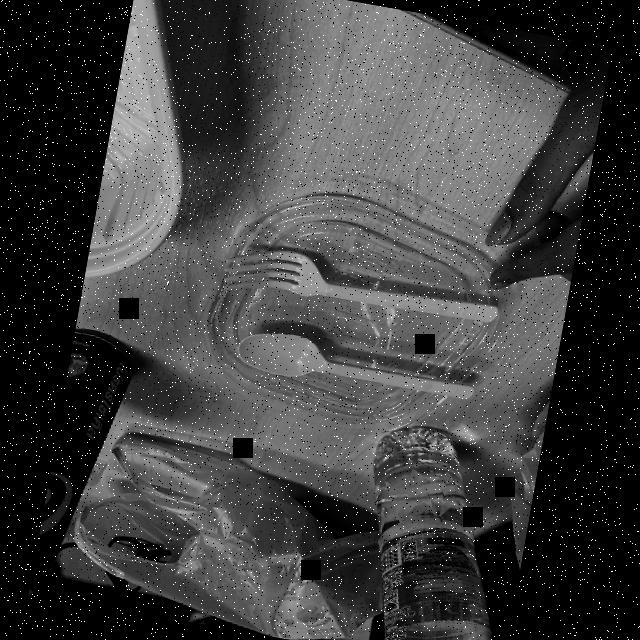plastic_cultery: (212, 234, 507, 339), (223, 319, 488, 415)
